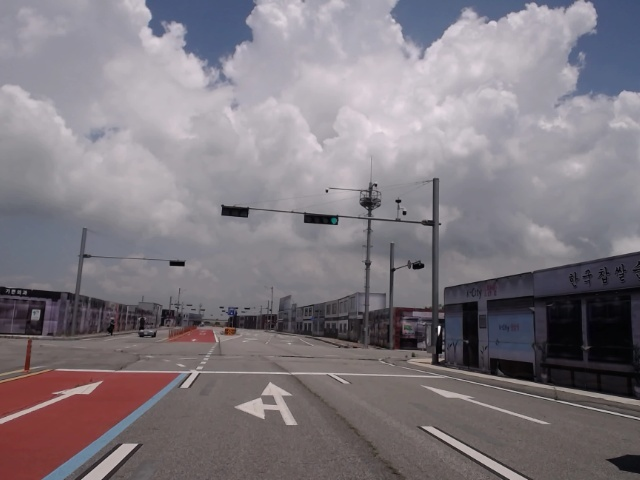straight_green_4: (304, 214, 342, 225)
